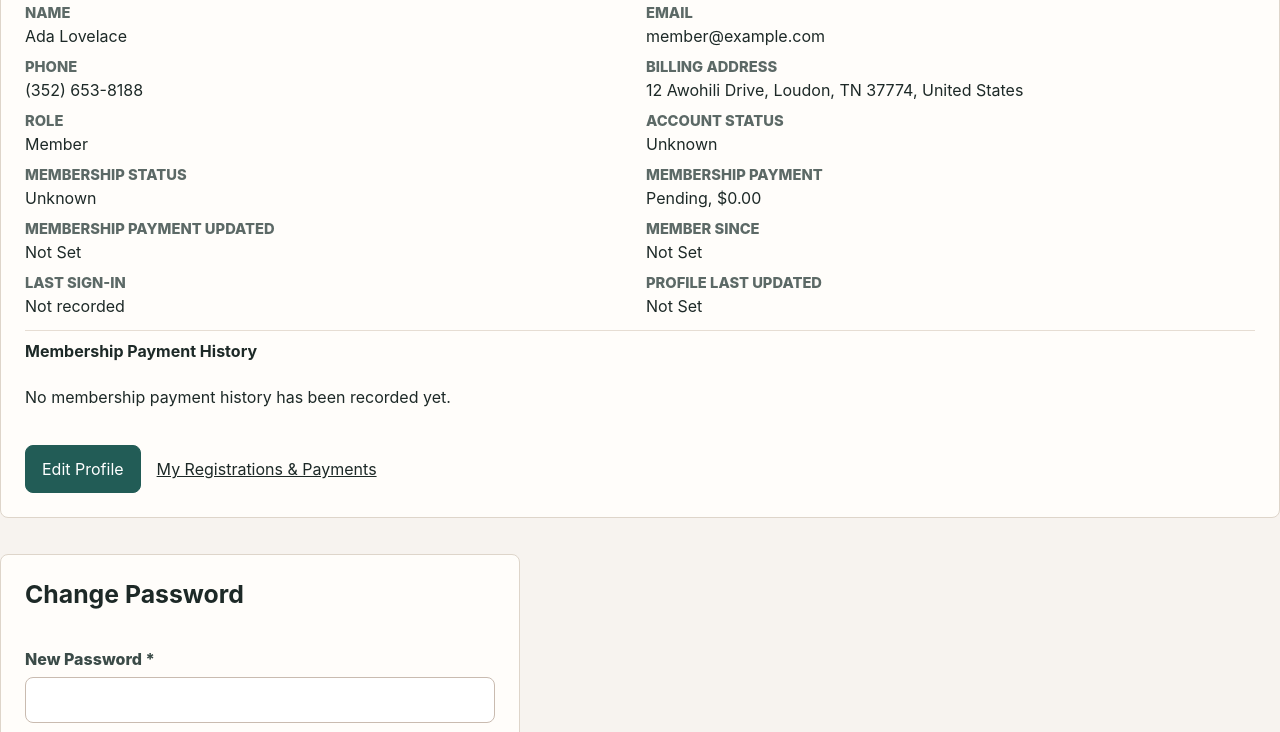
Test: entering and leaving edit mode › re-entering edit mode shows the restored value, not the abandoned one
Click the button "Edit Profile": (83, 469) [25, 445, 141, 493]
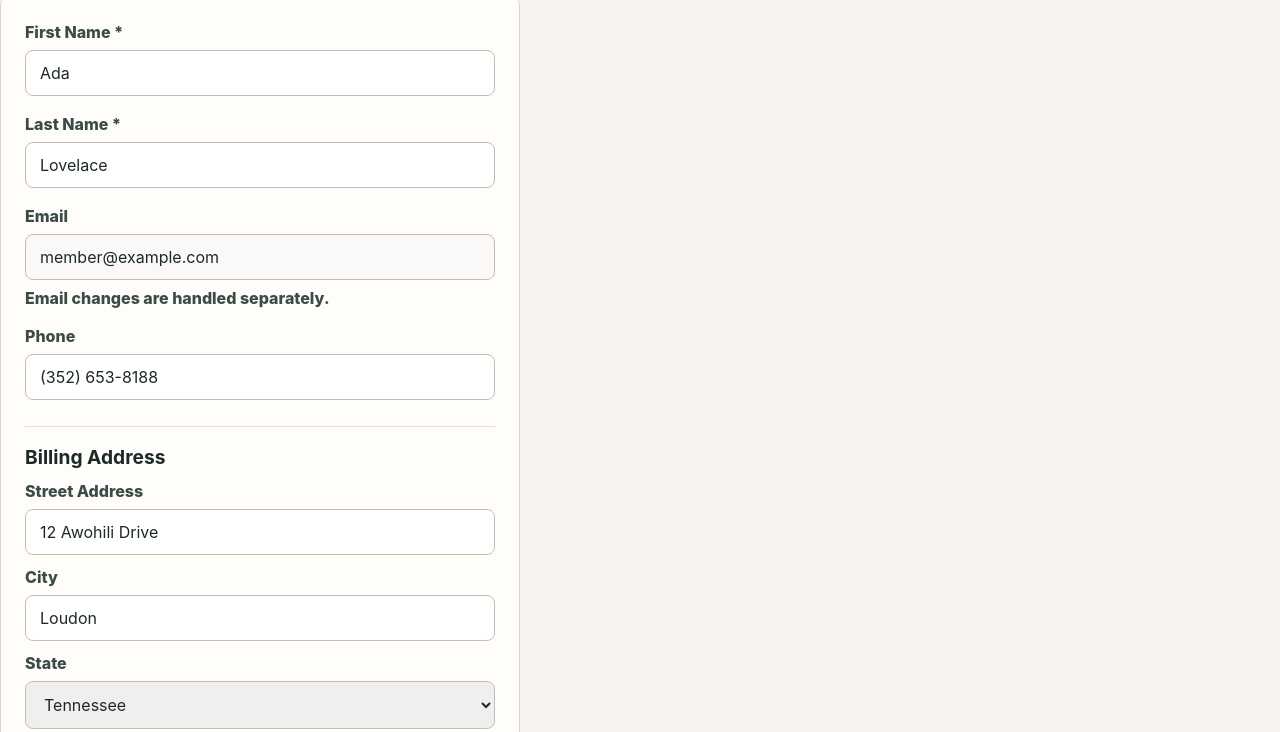
Replace the text in the field labelled "First Name *" with "Grace": (260, 73) [25, 50, 495, 96]
(page scrolled)
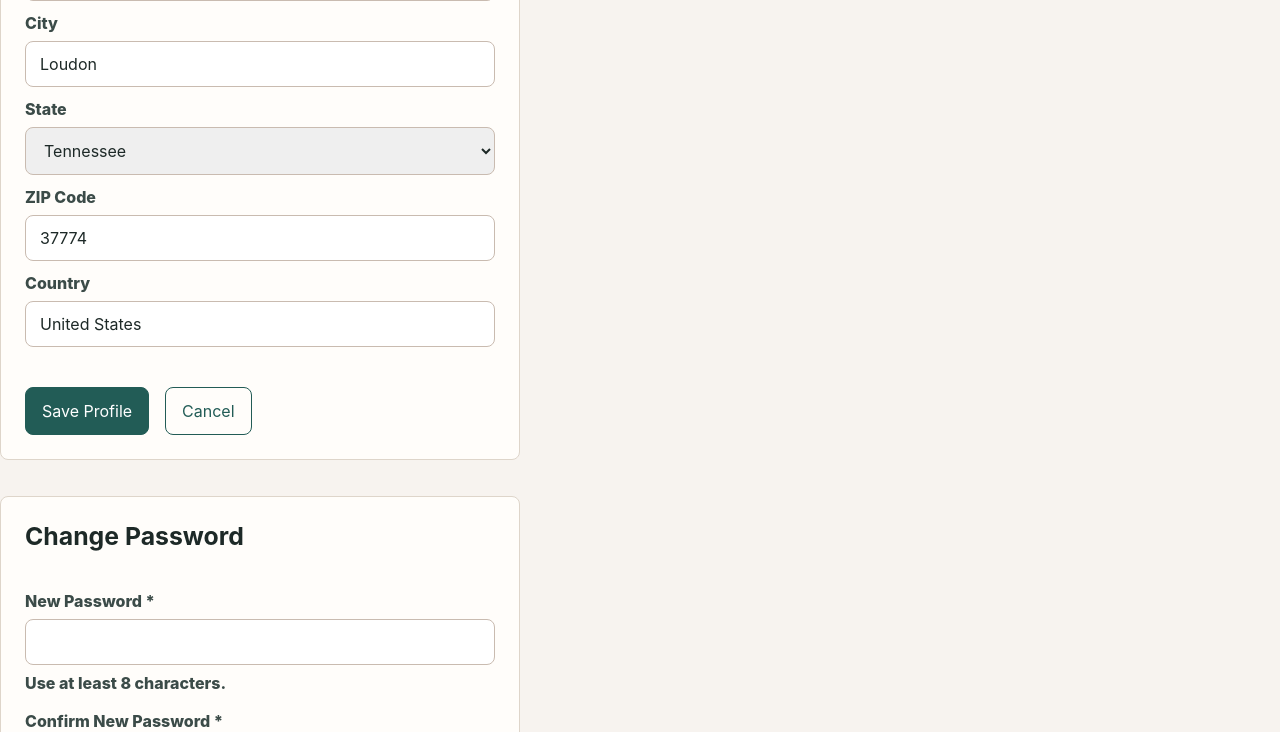
Click the button "Cancel": (208, 411) [165, 387, 252, 435]
(page scrolled)
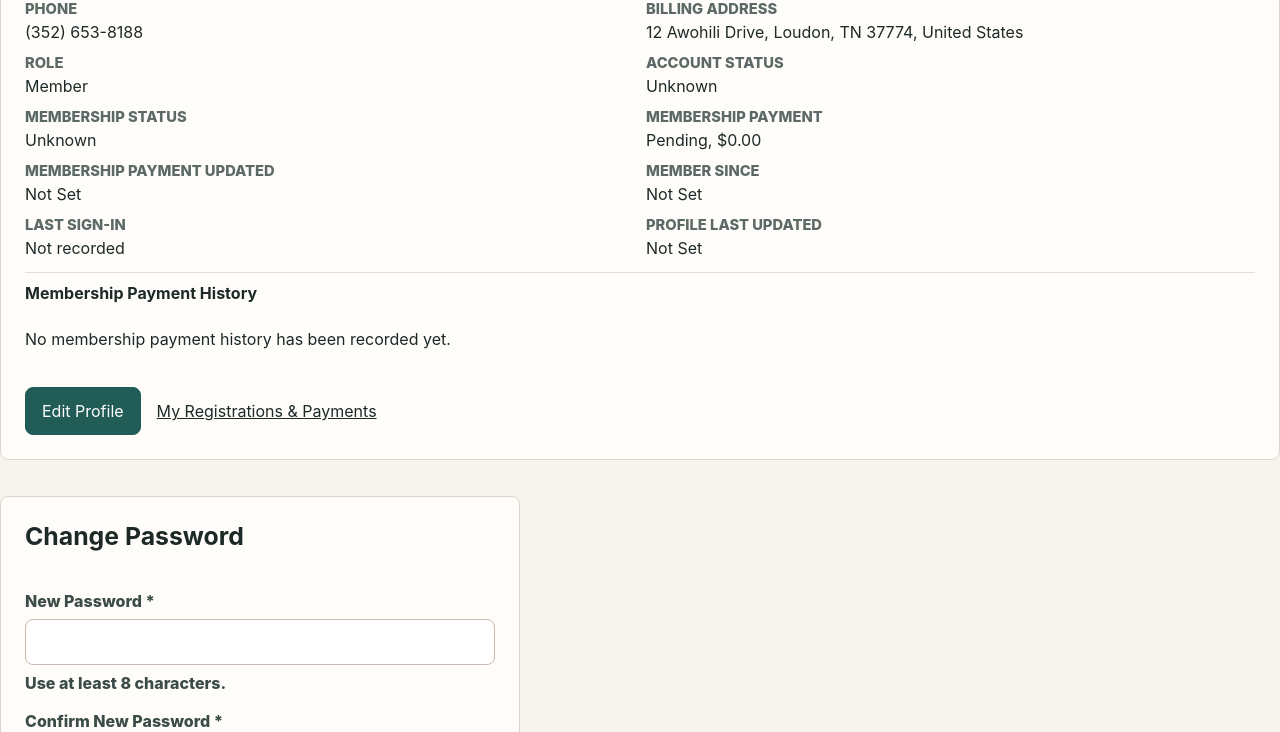
Click the button "Edit Profile": (83, 411) [25, 387, 141, 435]
(page scrolled)
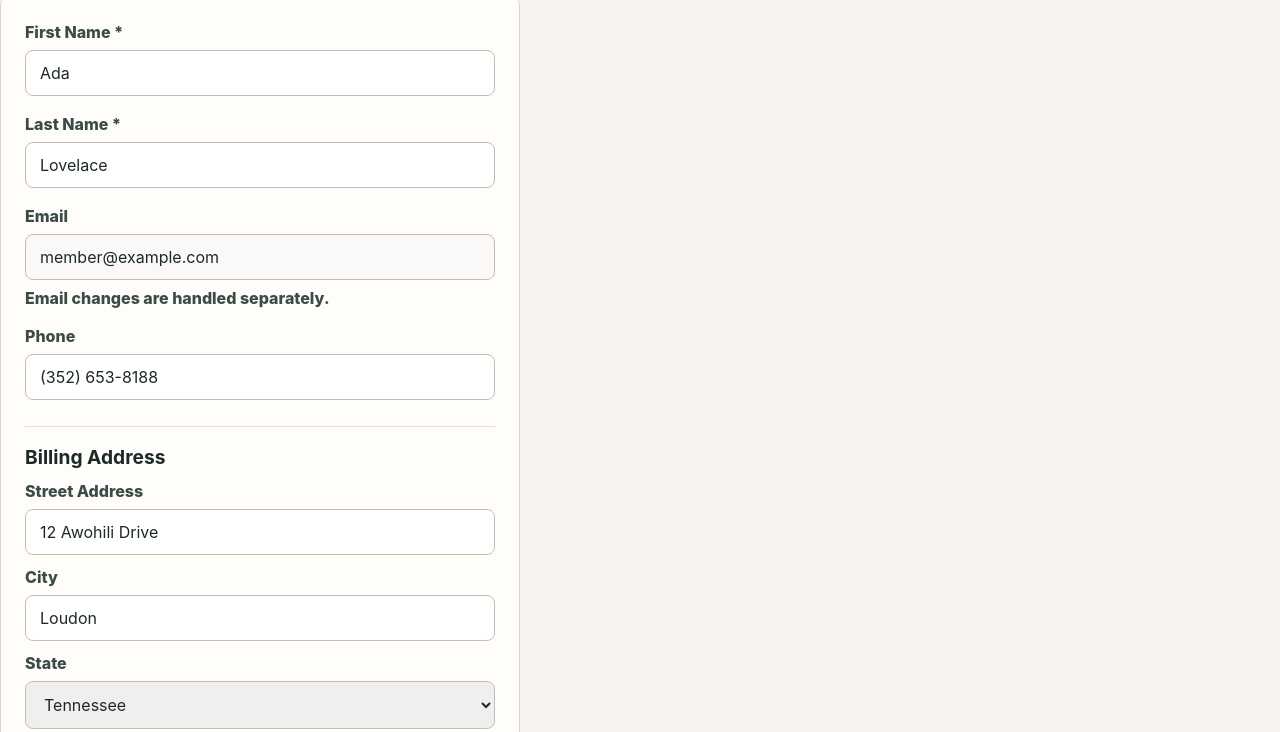
Expected: the field labelled "First Name *" holds "Ada", [25, 50, 495, 96]
